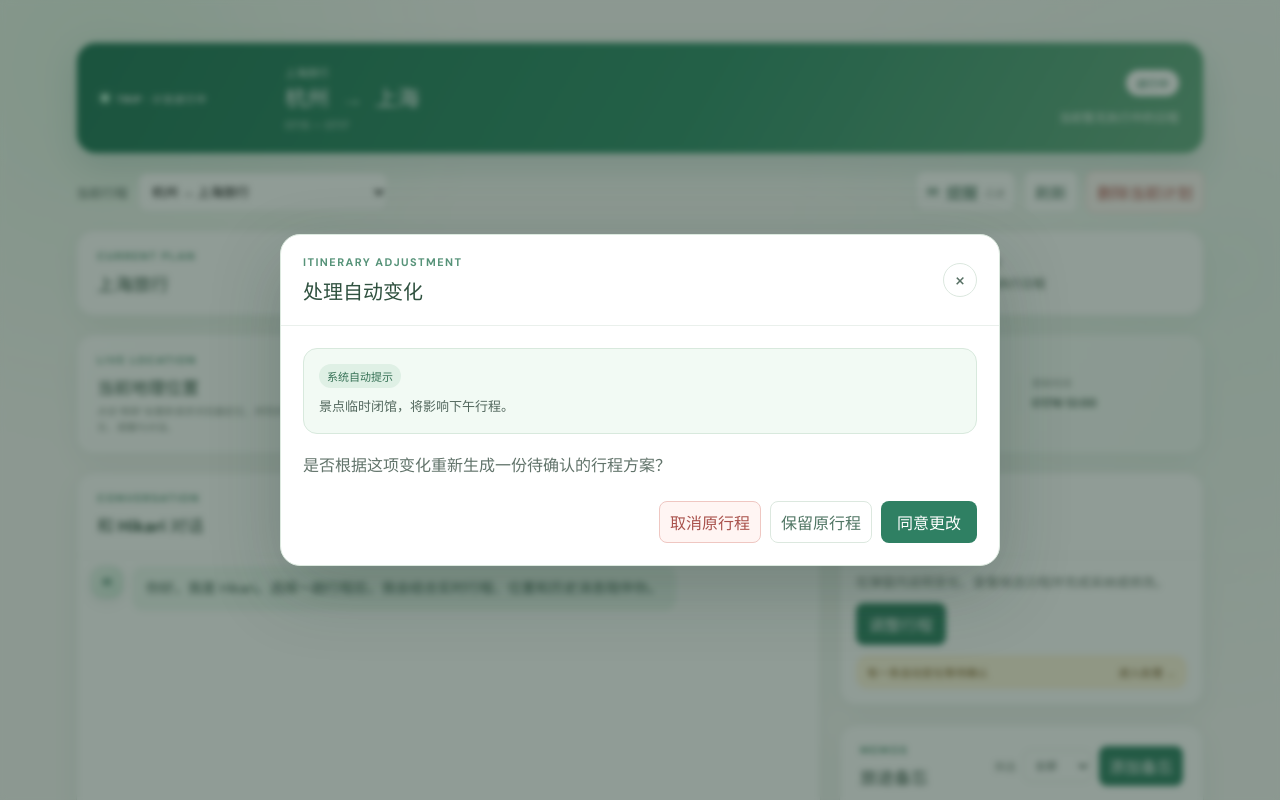
Test: Companion adjustment dialog › opens an automatic confirmation and then shows system notice plus supplement
Click the button "同意更改". click: (929, 522)
box: [881,501,977,543]
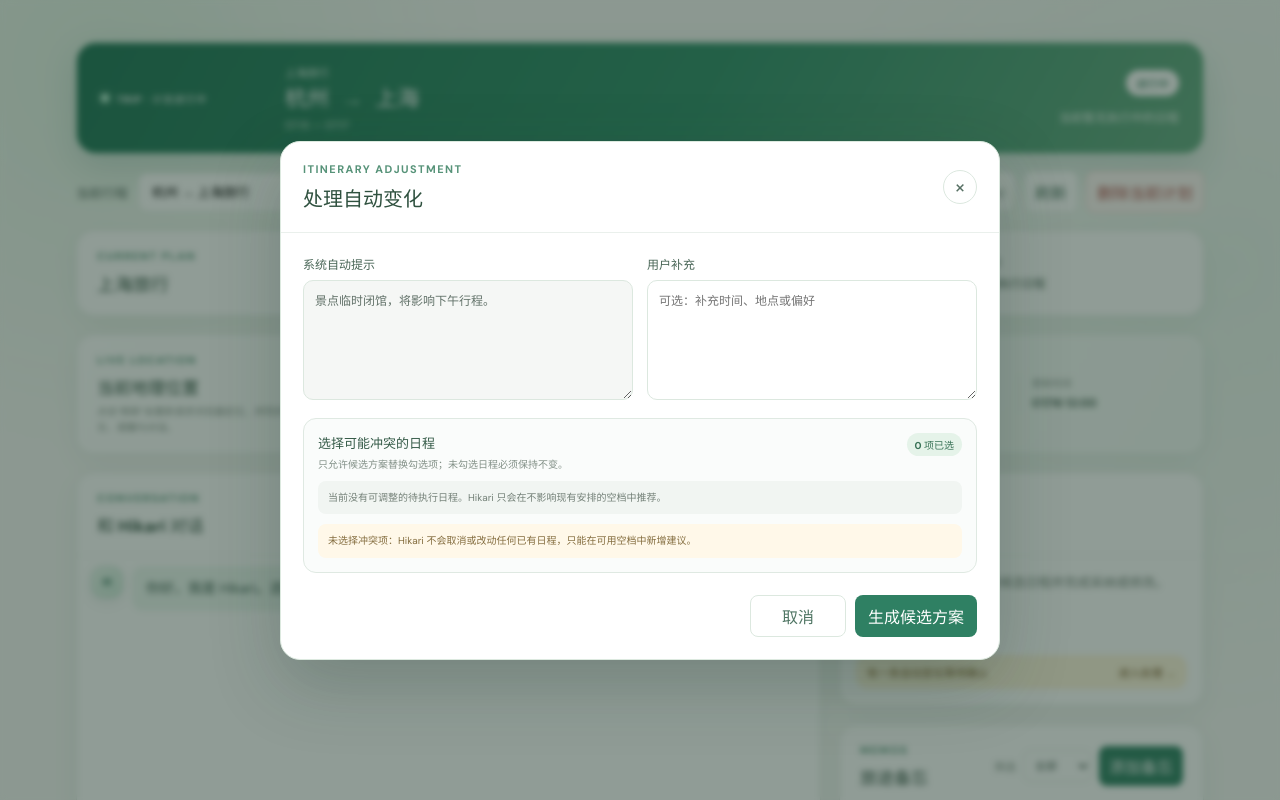
expect the text "系统自动提示" is shown: met, box [303,254,633,400]
expect the number of text boxes is 2: met, box [303,280,633,400]; [647,280,977,400]
expect the text "用户补充" is shown: met, box [647,254,977,400]
